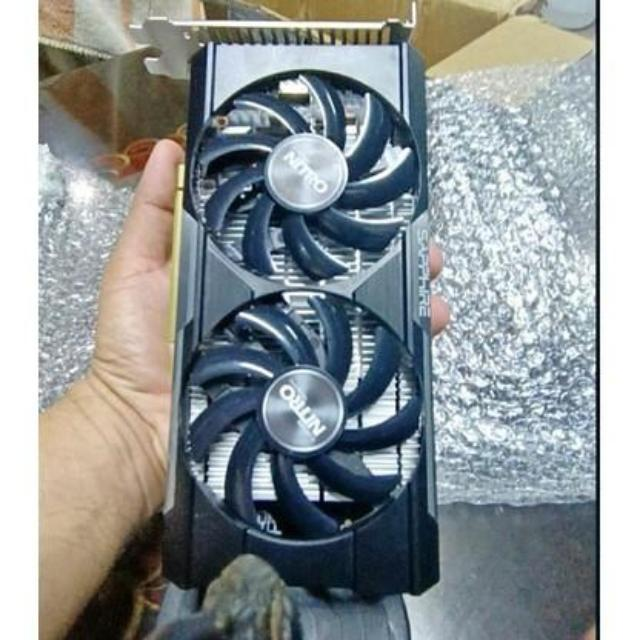GPU: (144, 9, 461, 614)
